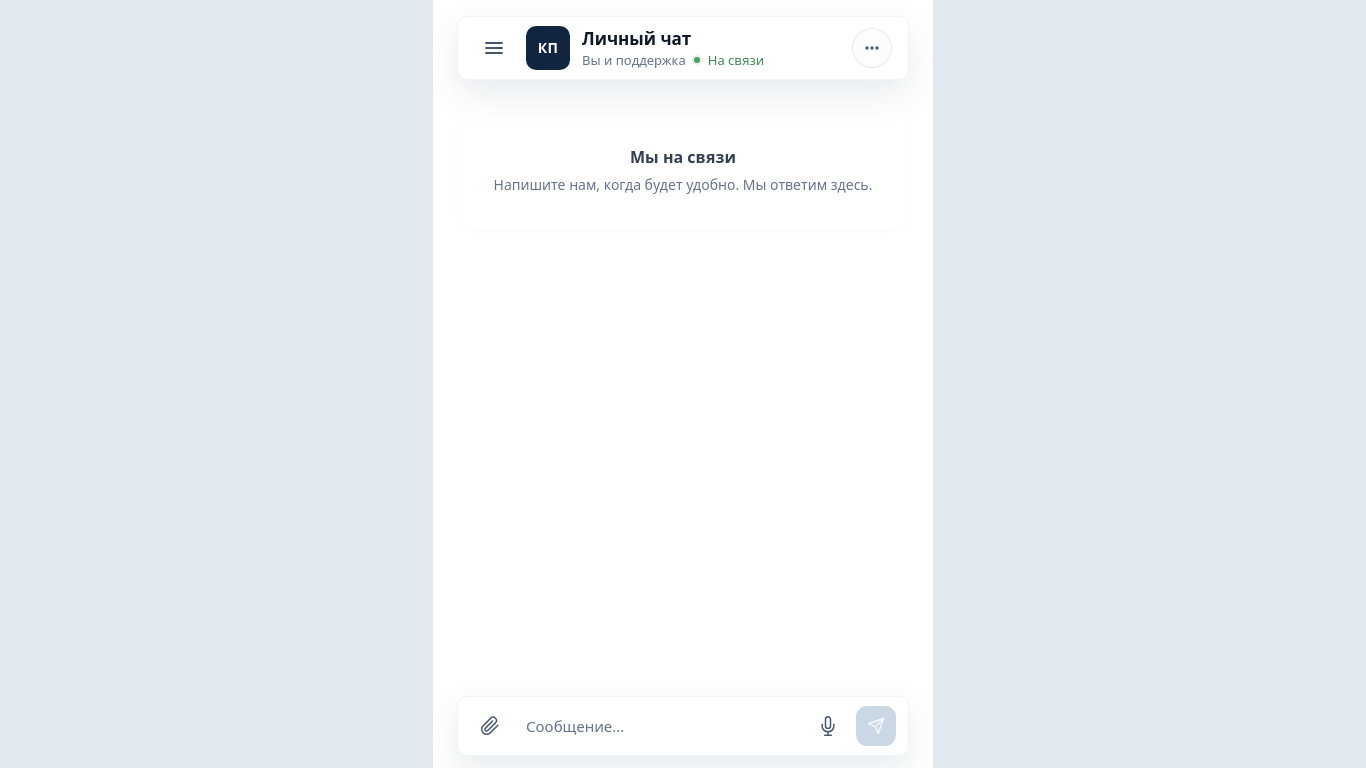
Test: ChatPage › allows the first text send to bootstrap a conversation without a selected conversation id
Expected: the text "Напишите нам, когда будет удобно. Мы ответим здесь." is shown, x1=478 y1=173 x2=888 y2=197
Type "Первое сообщение" into the text box labelled "Сообщение" at (659, 726), box x1=518 y1=706 x2=800 y2=746
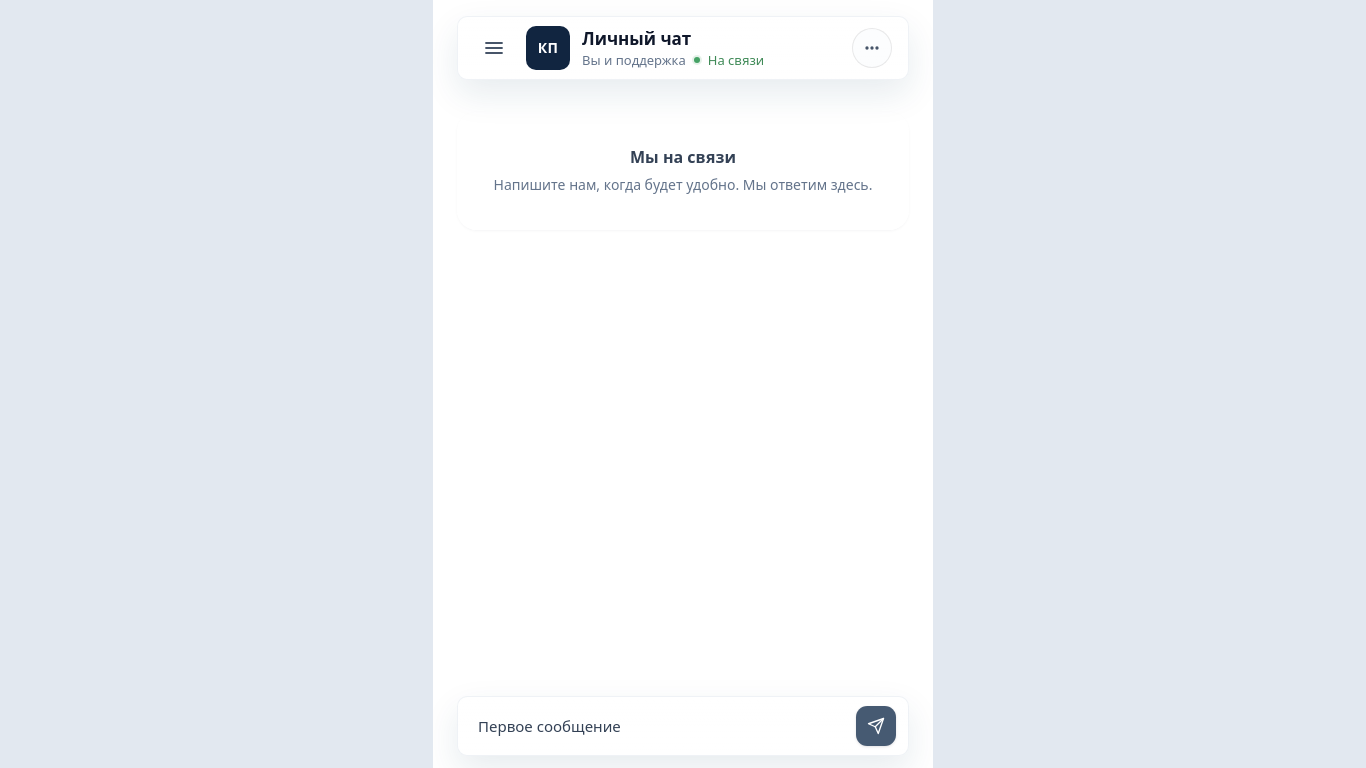
Click the button named "Отправить" at (876, 726), box x1=856 y1=706 x2=896 y2=746
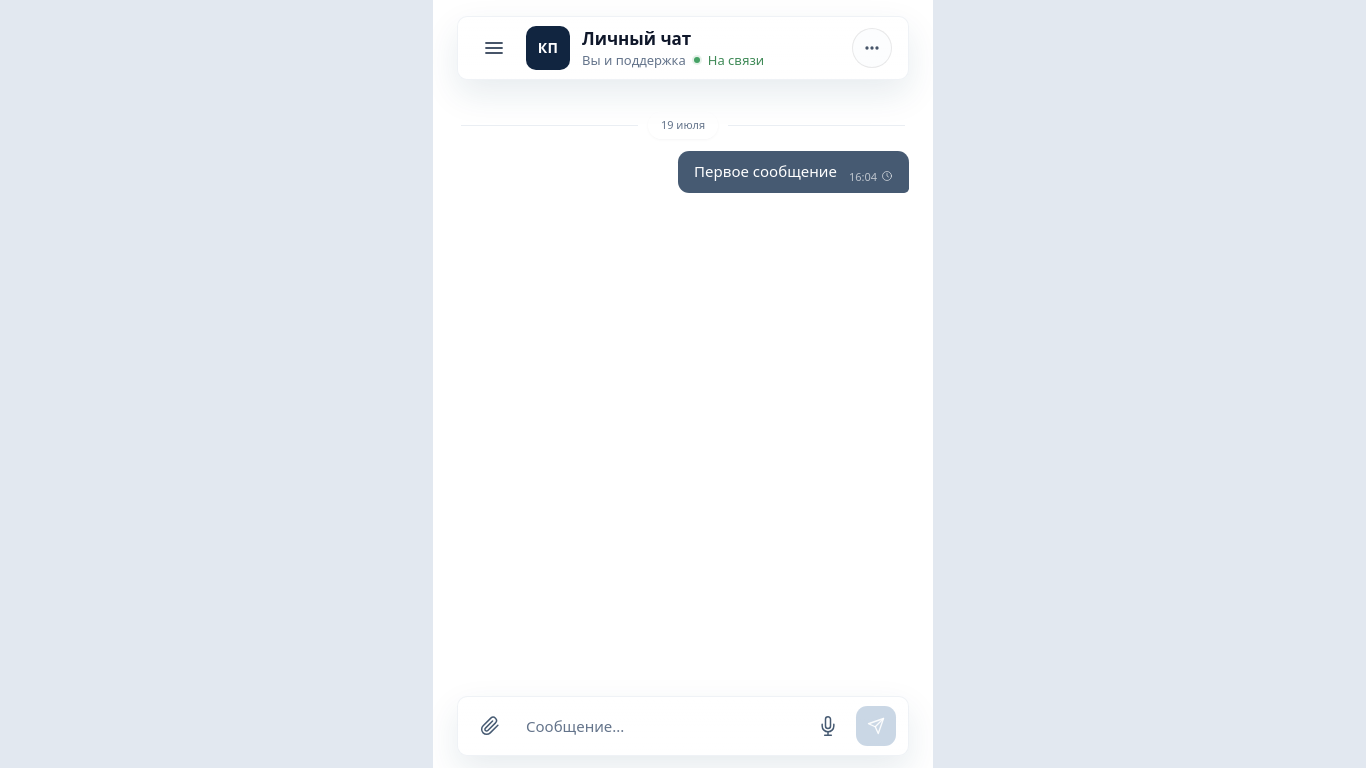
Result: the text "Первое сообщение" is shown at x1=694 y1=160 x2=837 y2=180
